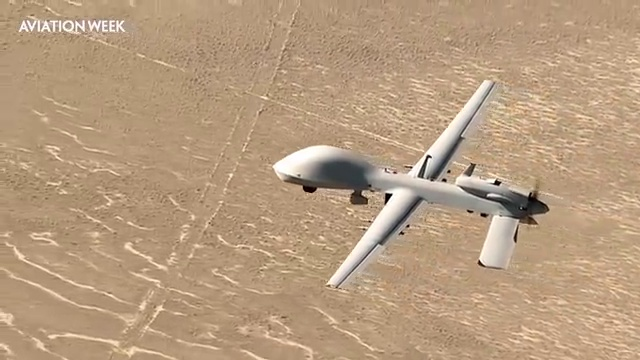military drone: (272, 79, 550, 289)
